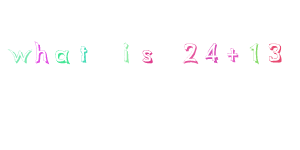+: (226, 47, 239, 62)
1: (248, 41, 261, 63)
2: (182, 41, 199, 63)
3: (267, 42, 282, 63)
4: (203, 42, 219, 64)
a: (54, 48, 70, 64)
h: (34, 39, 49, 64)
i: (121, 41, 131, 62)
s: (140, 48, 153, 63)
t: (78, 44, 88, 63)
w: (8, 47, 31, 63)
